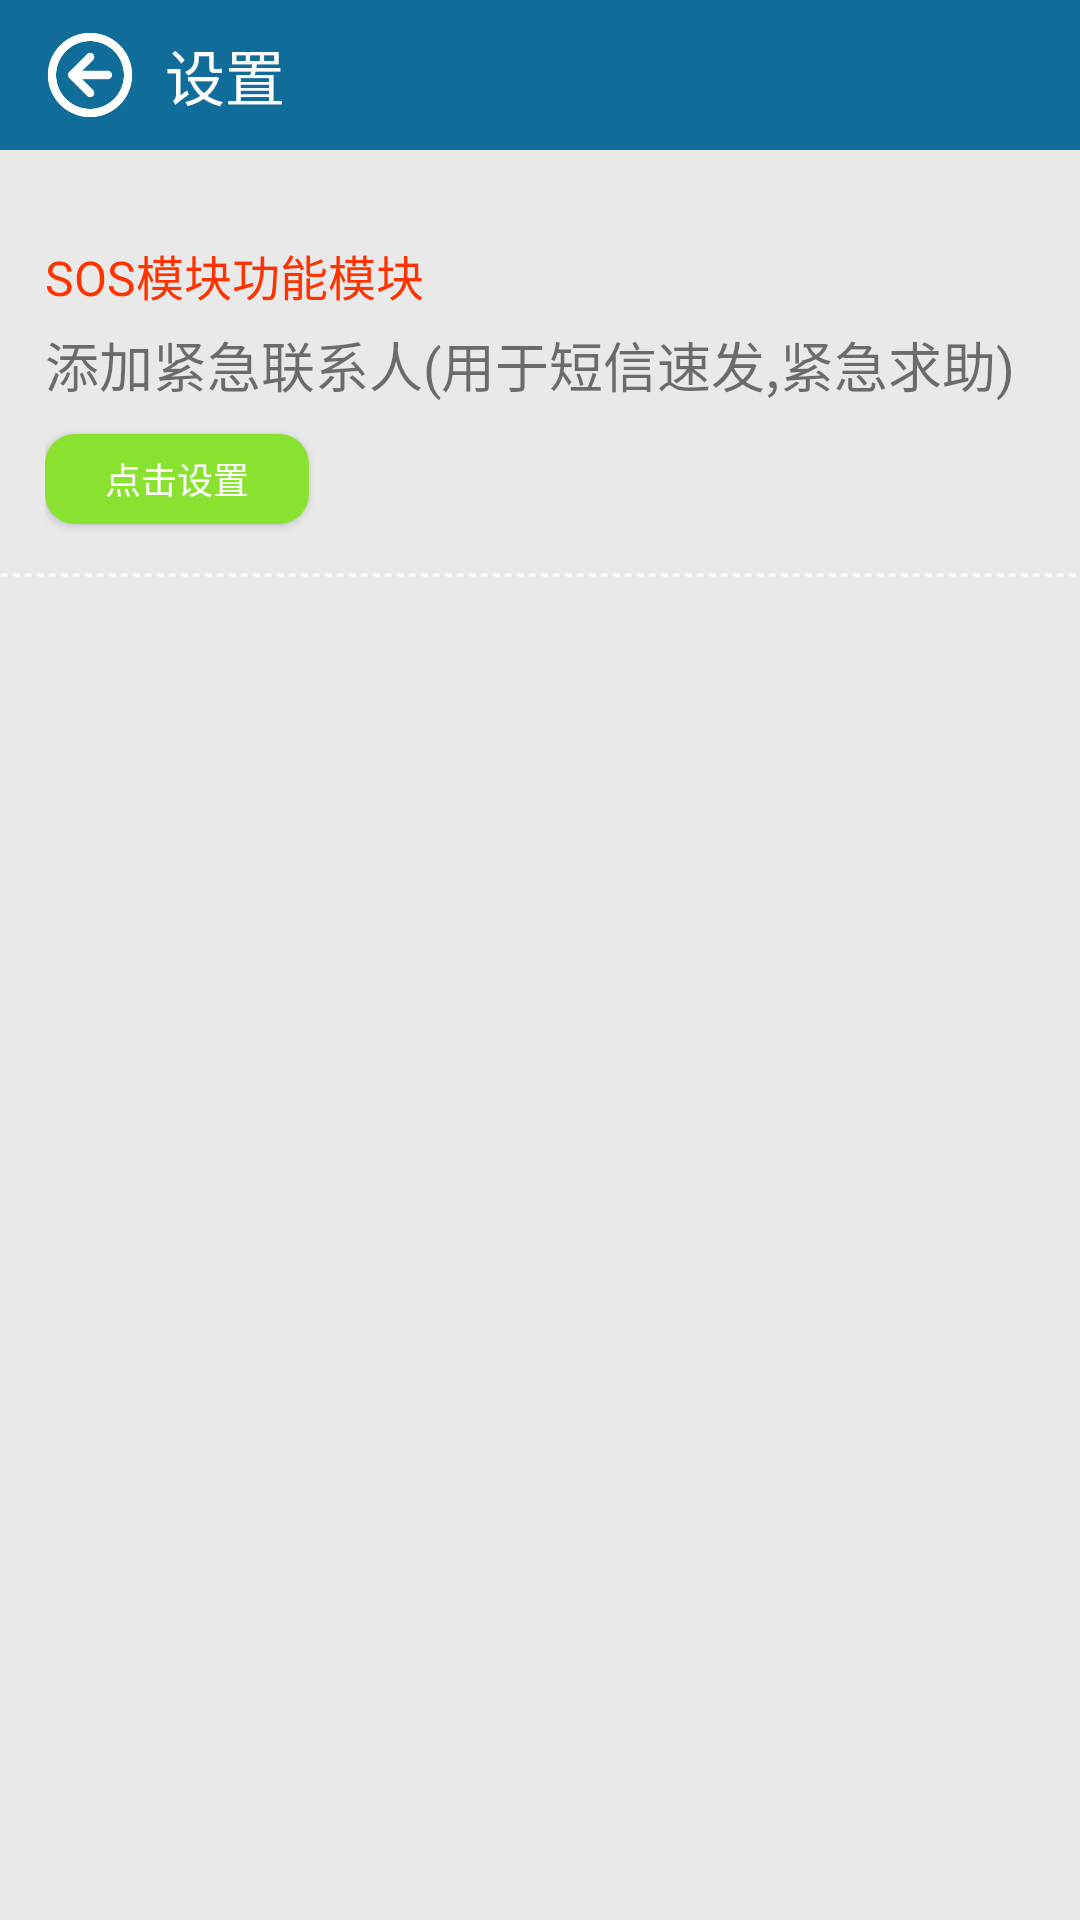

Named icons in this screenshot (1080x1920) and their centers, point (x, y):
back: point (90, 75)
